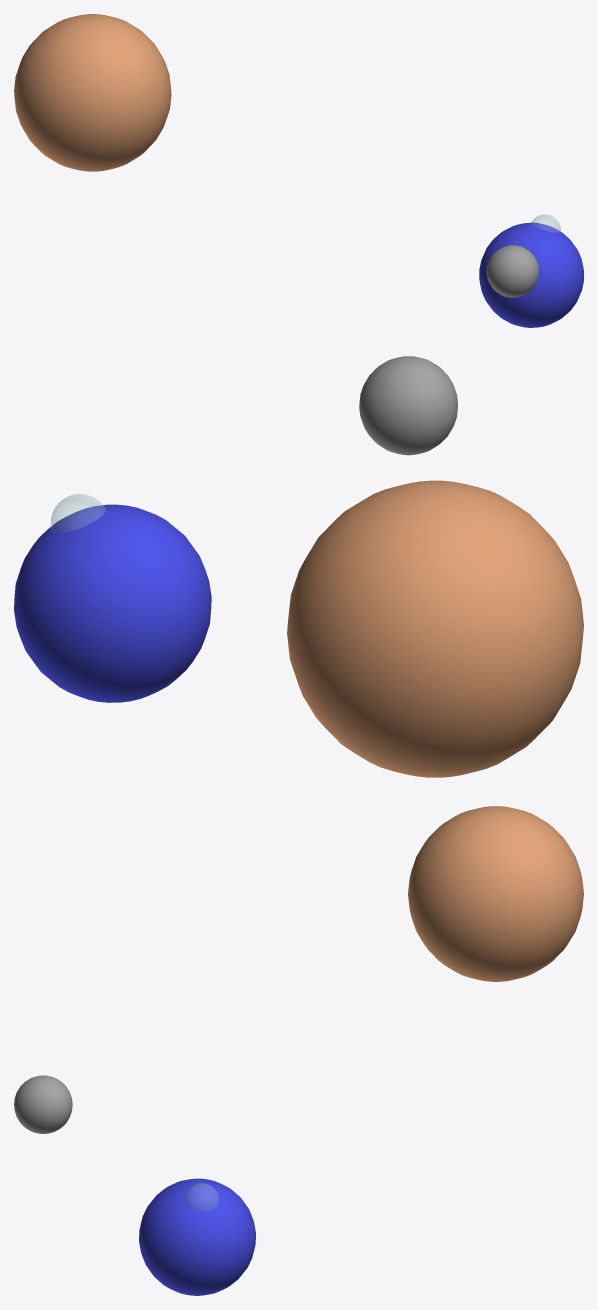
The model's file is little_prince.gltf.
3 renders of one model, top to bottom at view 1: azimuth 30°, elevation 25°; view 2: azimuth 150°, elevation 25°; view 3: azimuth 270°, elevation 25°, orthographic. The views are drawn at different scales.
Visible parts, largest first — view 1: planet2, glass_cover, pllanet; view 2: planet2, glass_cover, pllanet; view 3: planet2, glass_cover, pllanet.
Part boxes in pixels (x1,y1,x2,y2): planet2: (14, 14, 171, 171); glass_cover: (479, 214, 583, 327); pllanet: (486, 245, 539, 297); planet2: (287, 480, 583, 777); glass_cover: (14, 494, 211, 702); pllanet: (359, 356, 457, 455); planet2: (408, 806, 583, 981); glass_cover: (139, 1178, 255, 1295); pllanet: (14, 1075, 72, 1133).
Bounding box in the file's own units: 9.19 × 5.83 × 9.71.
